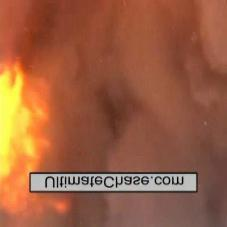fire: (0, 66, 42, 177)
